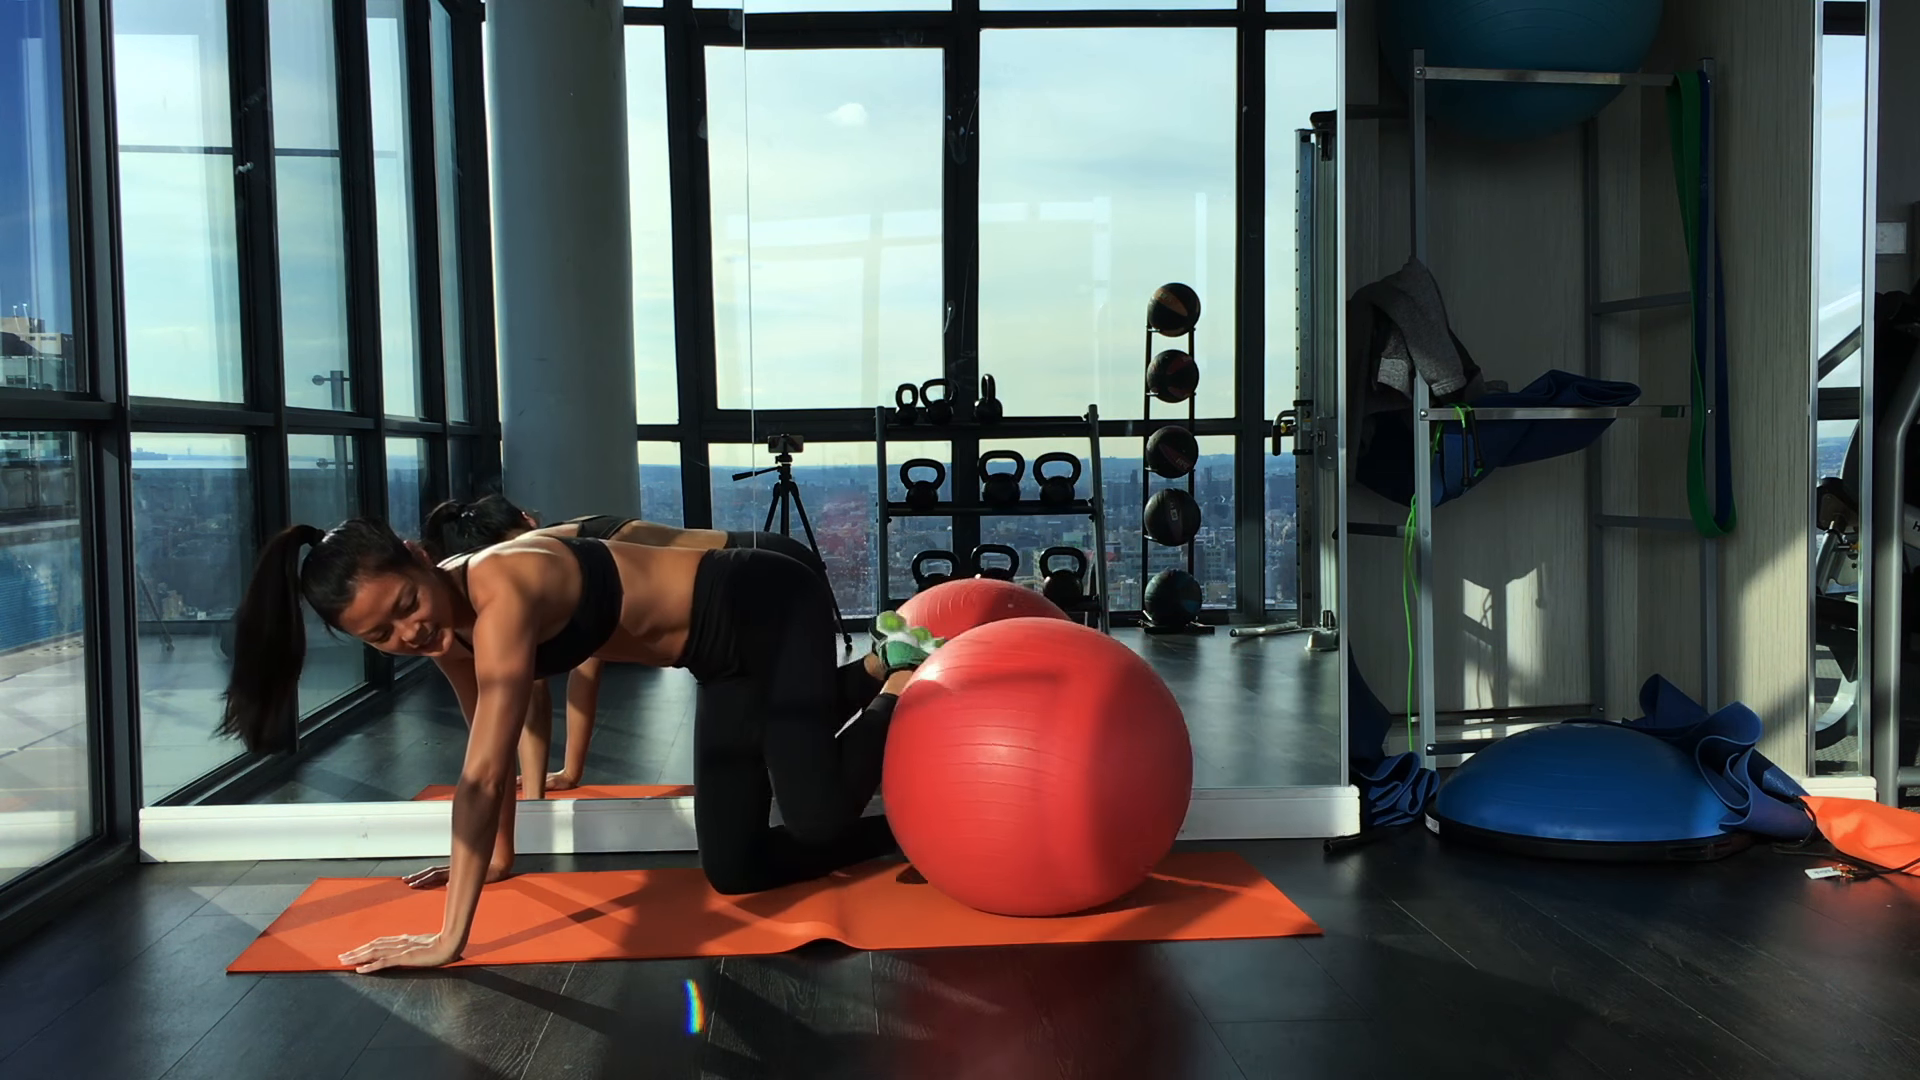yogaball: (876, 611, 1200, 922)
